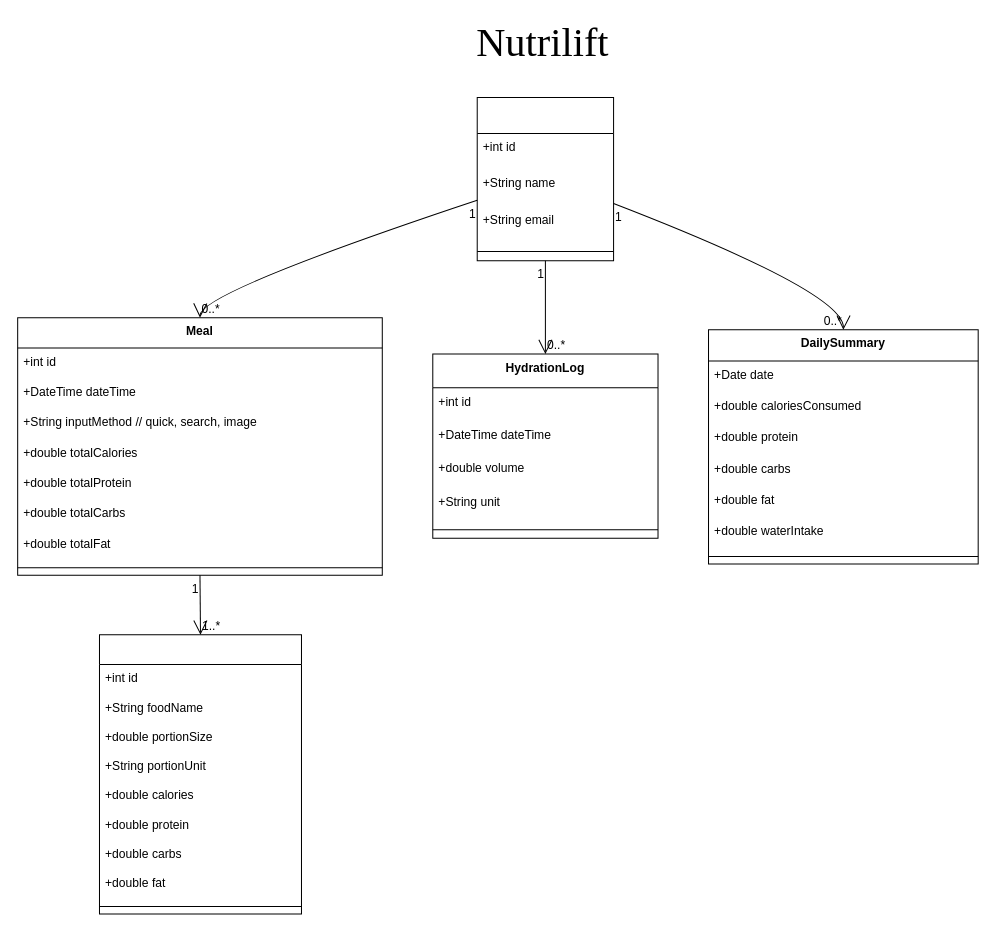
Image size: 996x931. Some labels were removed from this diagram. Here are the shapes that lost their labels. From the top down, the box of each, then its label:
(476, 96, 614, 261): User
(98, 634, 301, 914): MealItem
